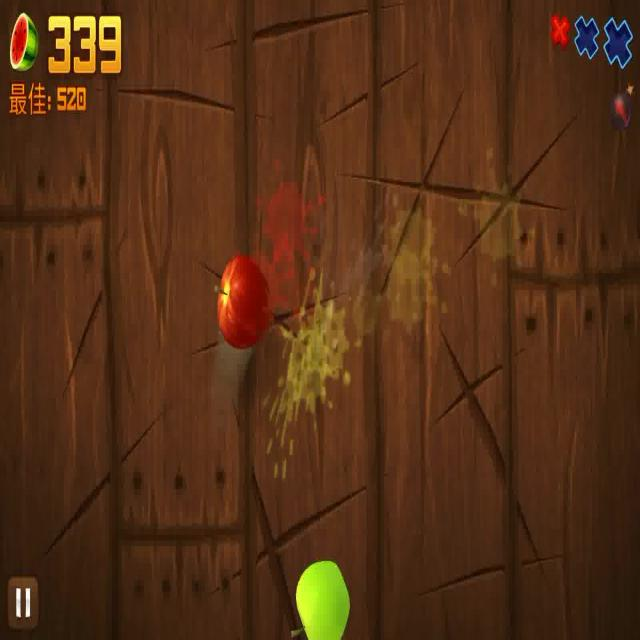fruit: (211, 254, 282, 353), (287, 534, 349, 640)
